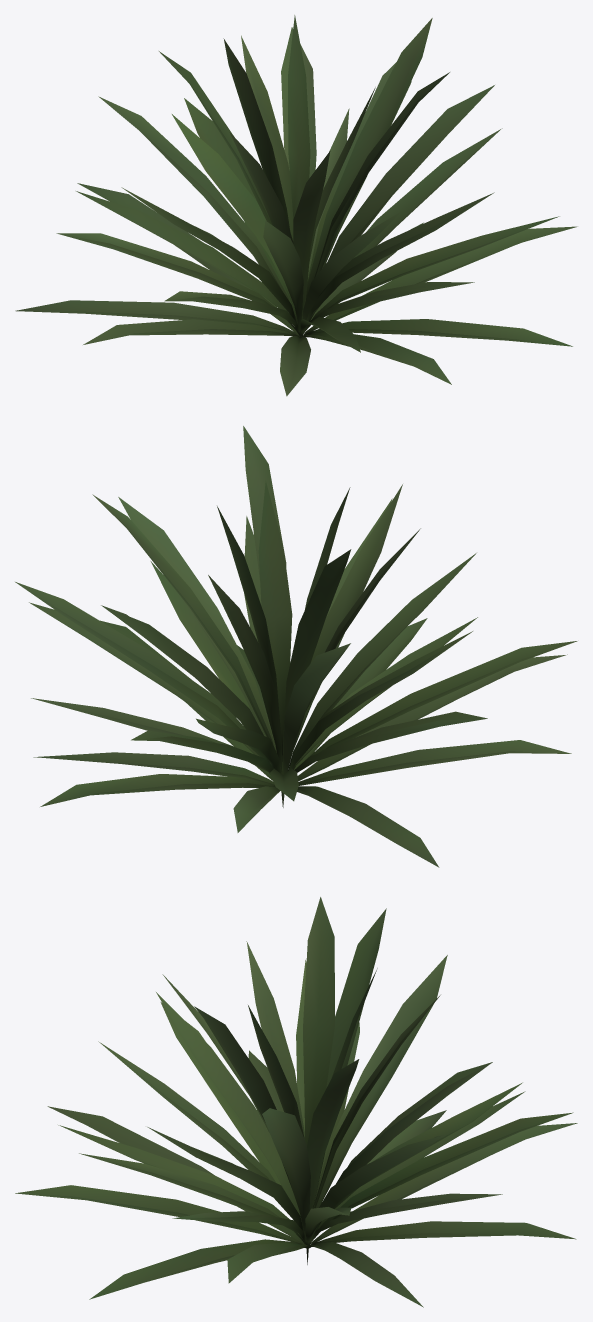
3 renders of one model, top to bottom at view 1: azimuth 30°, elevation 25°; view 2: azimuth 150°, elevation 25°; view 3: azimuth 270°, elevation 25°, orthographic. The views are drawn at different scales.
Visible parts, largest first — view 1: alt5.088; view 2: alt5.088; view 3: alt5.088.
Part boxes in pixels (<box>): alt5.088: <box>15,15,577,396</box>; alt5.088: <box>15,426,577,867</box>; alt5.088: <box>15,897,577,1307</box>.
Size of the model in its own units: 0.5 by 0.3242 by 0.4957.
